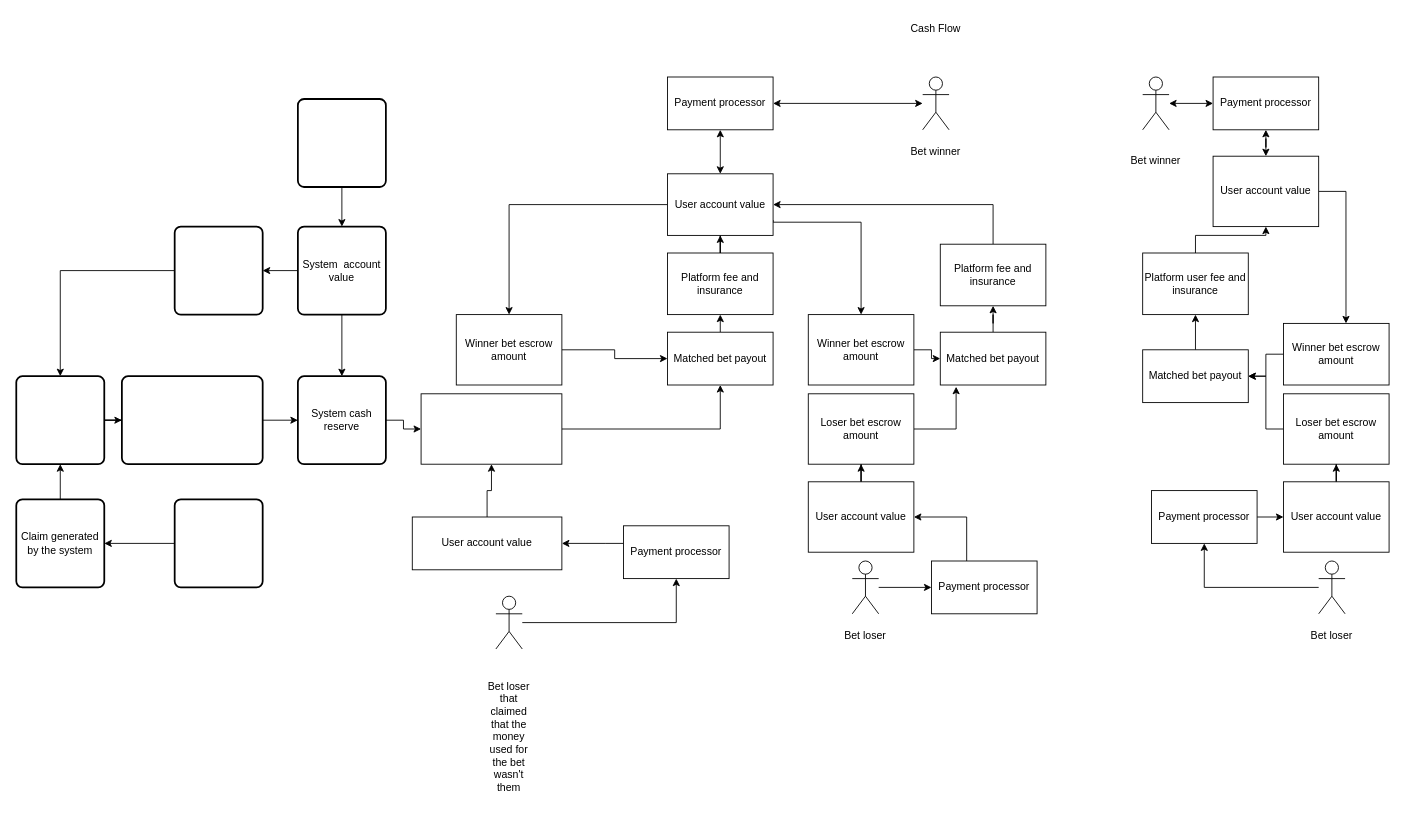
This 1404x831 diagram has some shape labels left out. The centre of each missing label's shape, as x and y in pixels:
Fraudulent bet claim: (x=218, y=543)
Fraudulent loser bet escrow amount: (x=491, y=428)
Fraudulent loser bet escrow amount reimbursements: (x=192, y=420)
Insurance: (x=60, y=420)
Insurance policy payments: (x=218, y=270)
Platform user fees: (x=341, y=142)
